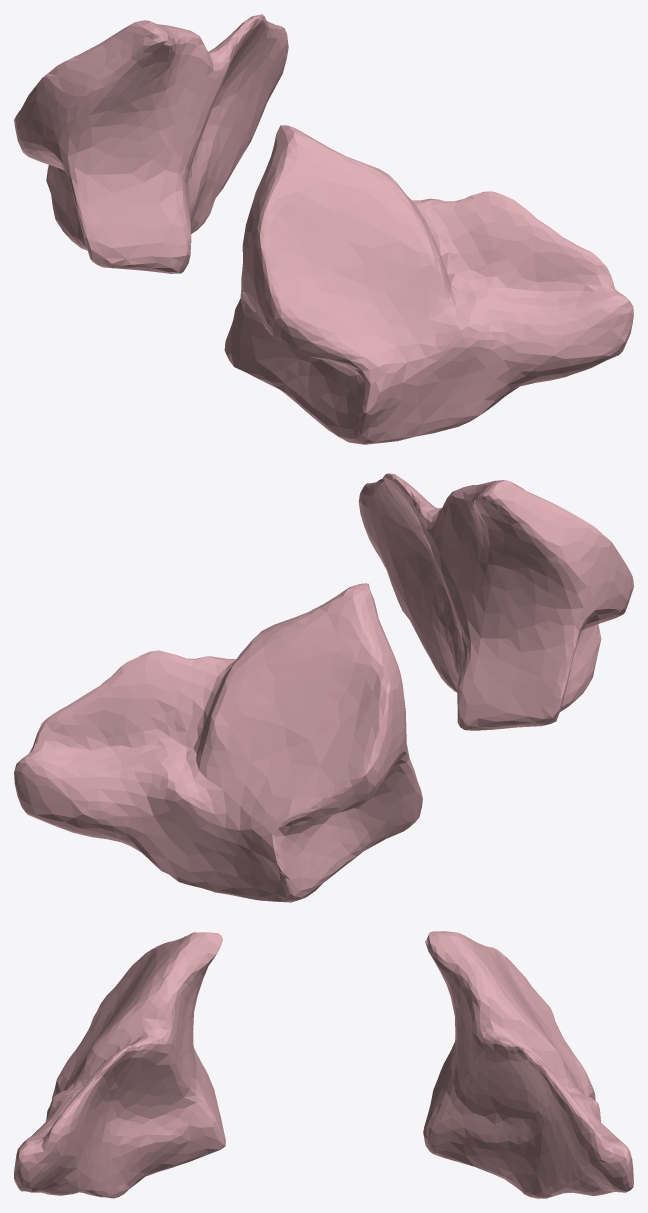
The picture shows the model from 3 angles, top to bottom: view 1: azimuth 30°, elevation 25°; view 2: azimuth 150°, elevation 25°; view 3: azimuth 270°, elevation 25°; orthographic projection. The views are drawn at different scales.
Visible parts, largest first — view 1: 138.obj; view 2: 138.obj; view 3: 138.obj.
Part boxes in pixels (x1,y1,x2,y2): 138.obj: (14,14,633,444); 138.obj: (14,473,633,902); 138.obj: (14,931,633,1198).
Bounding box in the file's own units: 2289 × 1886 × 4684.
